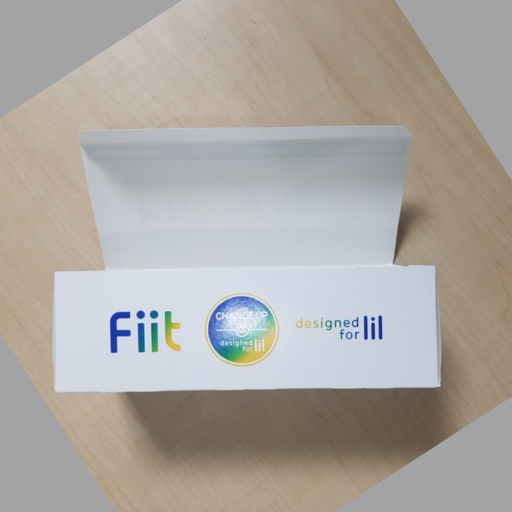Paper_0: (37, 127, 447, 406)
